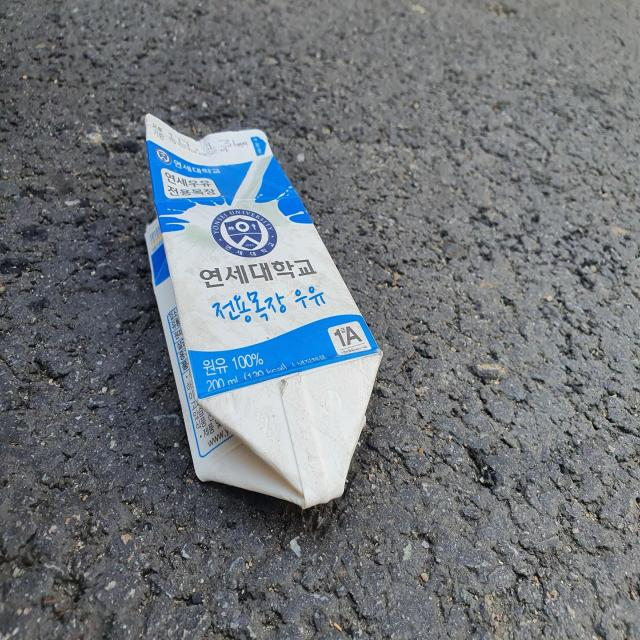paperpack: (144, 114, 382, 508)
